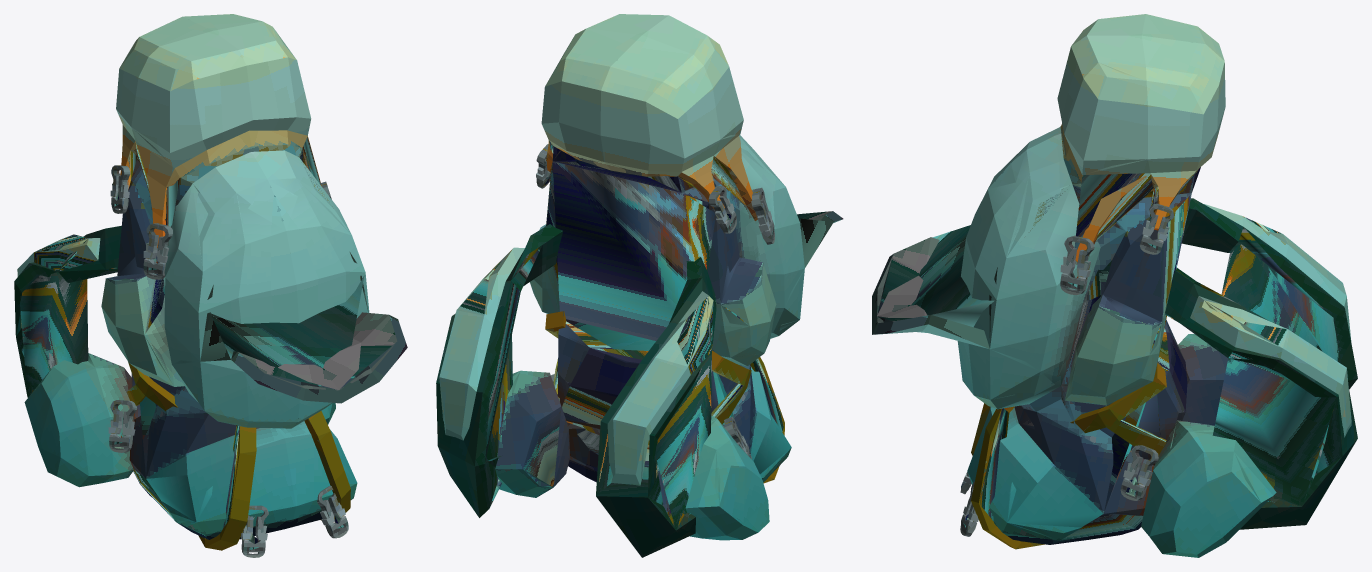
File: item_backpack_large_base.glb
3 views of the same model, side by side, from view 1: azimuth 30°, elevation 25°; view 2: azimuth 150°, elevation 25°; view 3: azimuth 270°, elevation 25° (orthographic). The views are drawn at different scales.
Parts seen in each view (by area): view 1: backpackHiker_closed, backpackHiker_open; view 2: backpackHiker_closed, backpackHiker_open; view 3: backpackHiker_closed, backpackHiker_open.
Boxes of the visible parts, x1,y1,x2,y2 form: backpackHiker_closed: (14, 14, 369, 557); backpackHiker_open: (18, 17, 407, 557); backpackHiker_closed: (436, 14, 804, 557); backpackHiker_open: (439, 29, 843, 539); backpackHiker_closed: (957, 14, 1357, 557); backpackHiker_open: (872, 36, 1354, 556).
Size of the model in its own units: 0.4636 by 0.7314 by 0.6657.
1 material, 1 textured.
